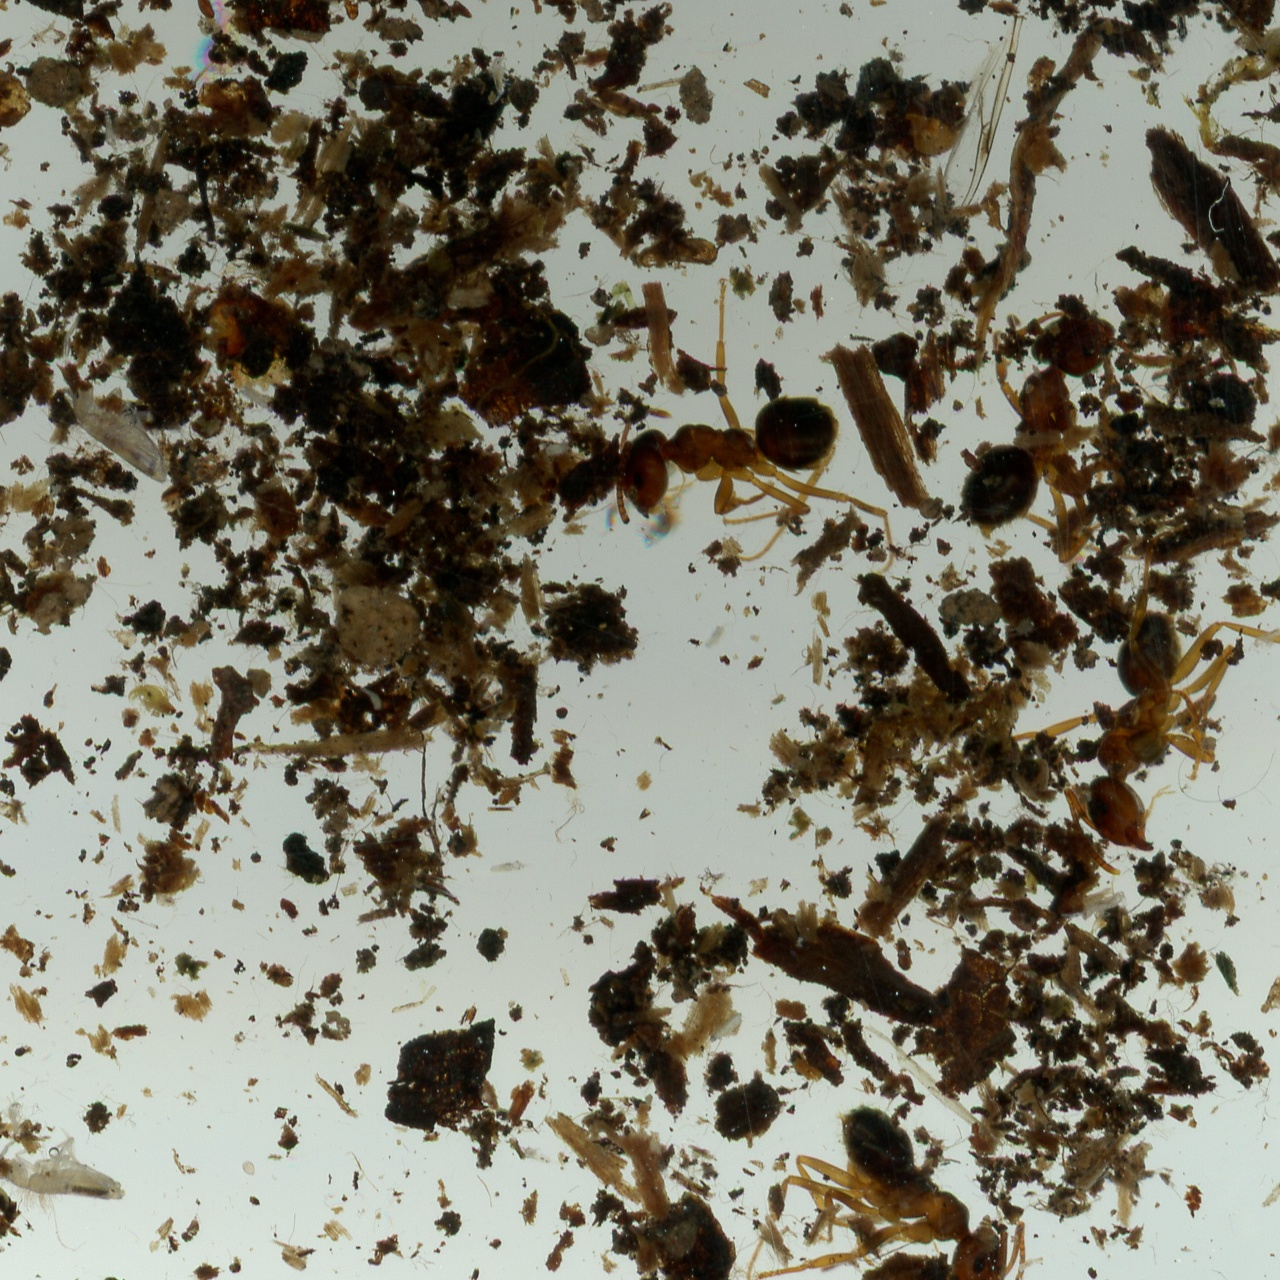arthropod: (985, 493, 1280, 925), (568, 253, 896, 599), (911, 266, 1207, 590), (701, 1071, 1060, 1280), (42, 350, 197, 502), (0, 1133, 132, 1218), (1056, 880, 1138, 947), (698, 1006, 751, 1055), (234, 375, 281, 423), (516, 1139, 565, 1172), (97, 100, 121, 156), (2, 1089, 30, 1136), (488, 53, 512, 106), (105, 623, 139, 651), (487, 859, 535, 874), (543, 439, 575, 459), (195, 0, 218, 21)
